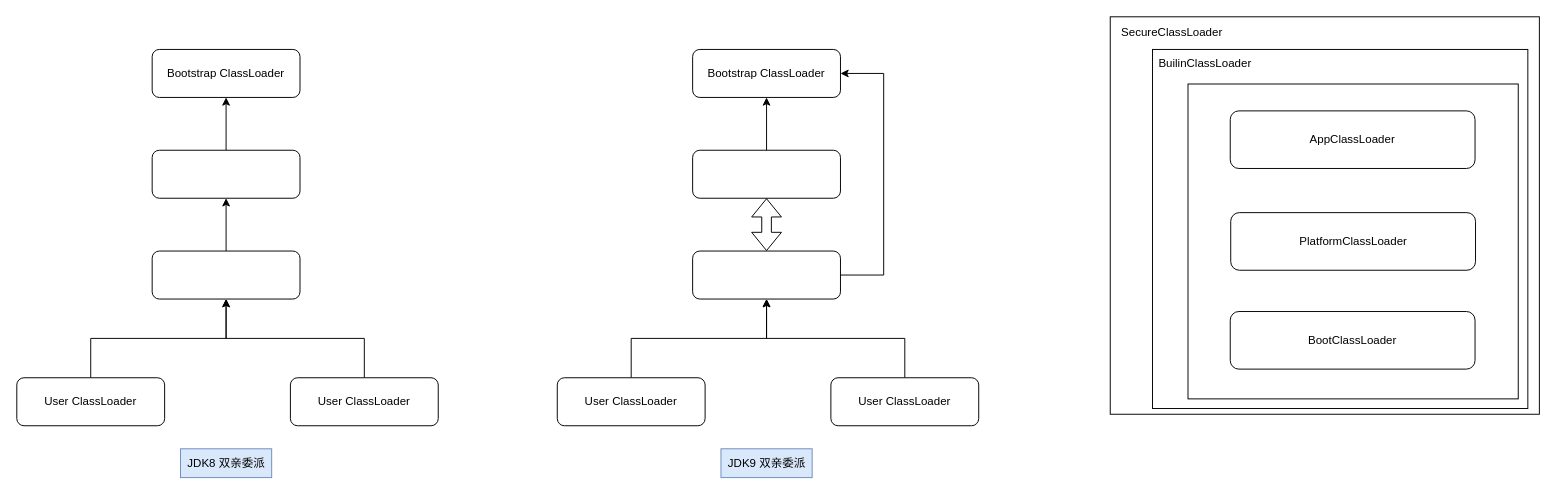
The diagram is 1556 pixels wide and 494 high, and some of its shapes have lost their labels. Each missing label, with the centre of its shape:
App ClassLoader: point 766,274
Application ClassLoader: point 225,274
Extension ClassLoader: point 225,173
Platform ClassLoader: point 766,173
